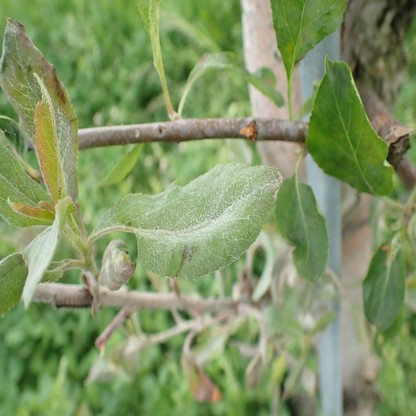powdery_mildew: (88, 162, 284, 278), (1, 17, 77, 308)
